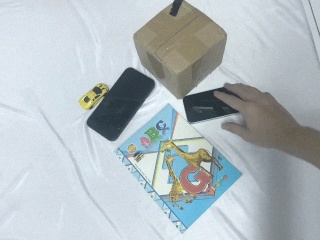book: (116, 103, 243, 233)
box: (134, 1, 226, 98)
phone: (86, 66, 156, 142), (182, 86, 240, 123)
toy_car: (78, 83, 108, 110)
